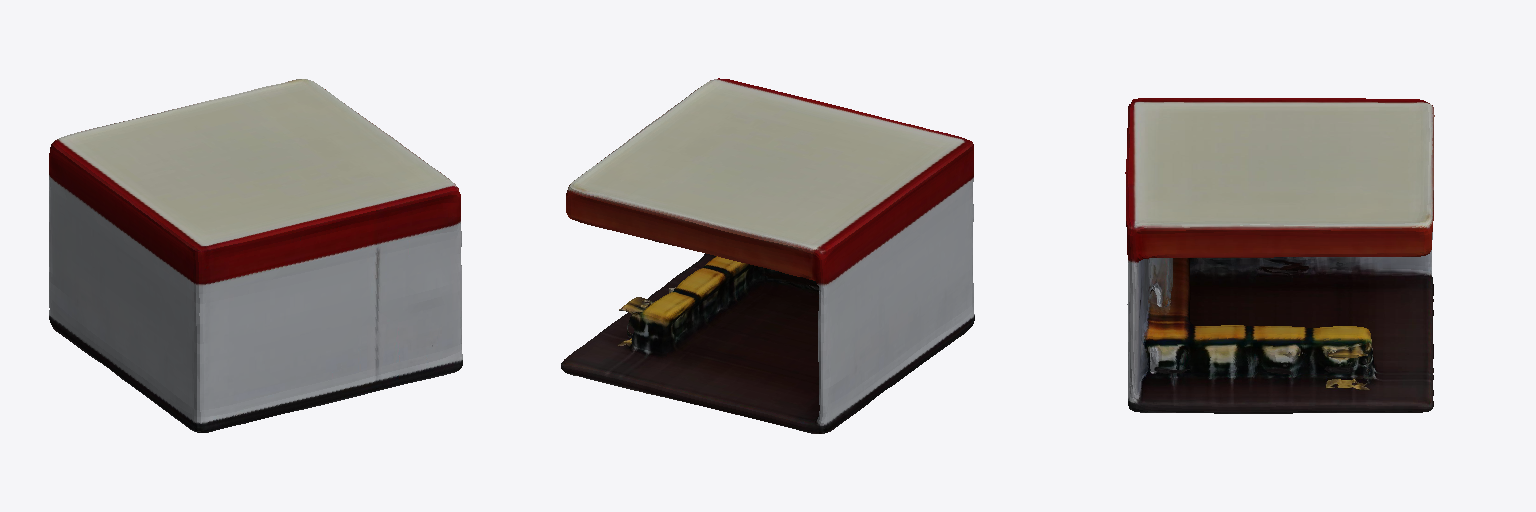
3 renders of one model, left to right at view 1: azimuth 30°, elevation 25°; view 2: azimuth 150°, elevation 25°; view 3: azimuth 270°, elevation 25°, orthographic.
Parts seen in each view (by area): view 1: mesh001; view 2: mesh001; view 3: mesh001.
Part boxes in pixels (x1,y1,x2,y2): mesh001: (49, 79, 462, 432); mesh001: (561, 78, 974, 433); mesh001: (1125, 98, 1434, 413).
Size of the model in its own units: 31.95 by 21.29 by 31.8.
1 materials, 1 textured.